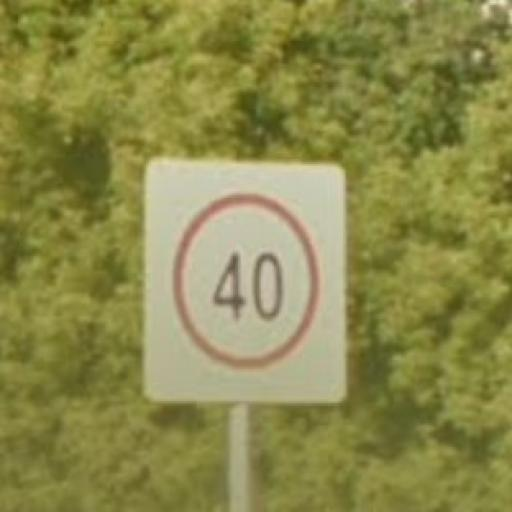traffic_sign: (170, 189, 324, 371)
